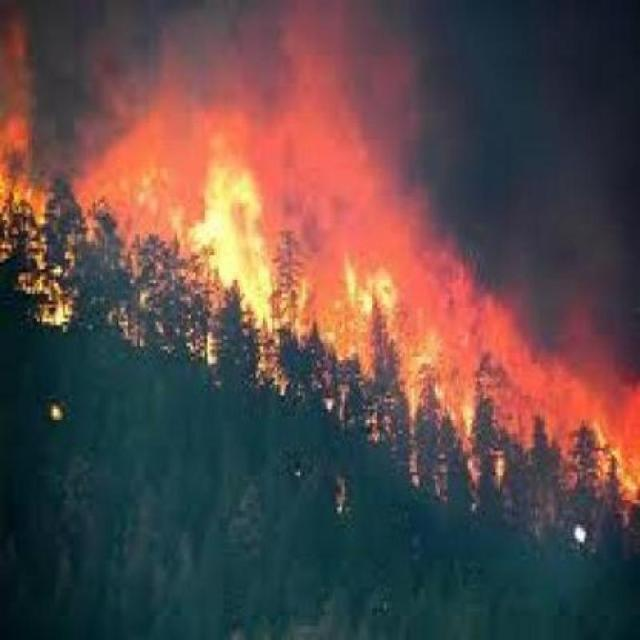Fire: (200, 178, 640, 524)
